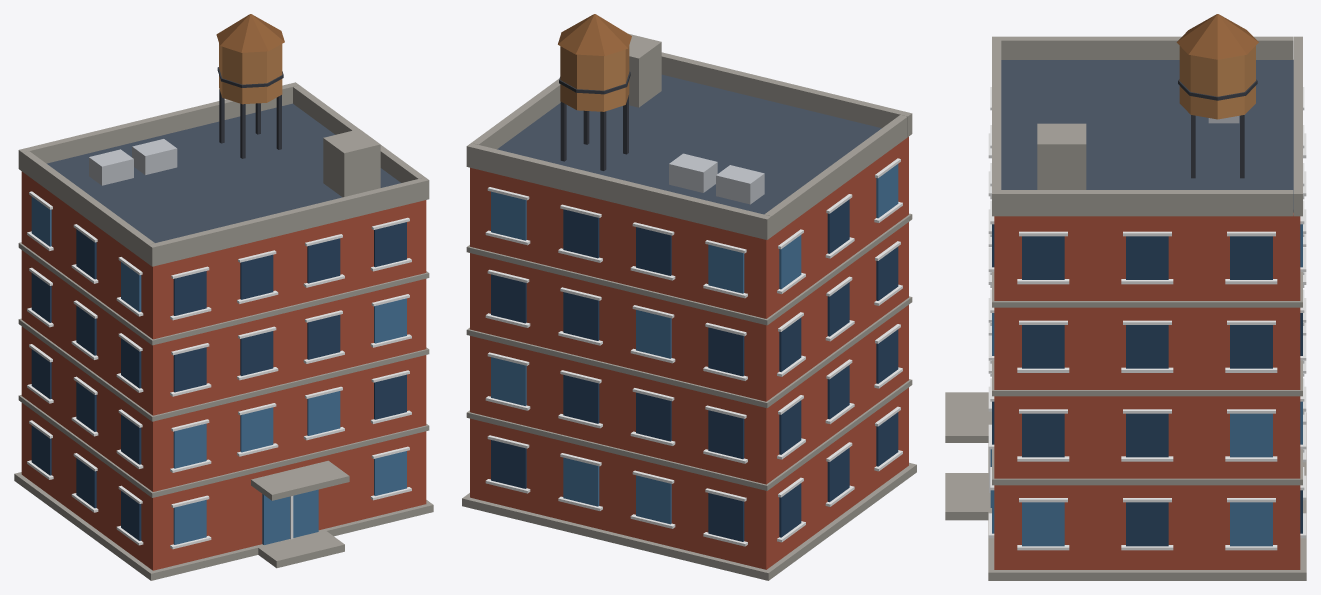
The model's file is Apartment_Block.glb.
The picture shows the model from 3 angles, left to right: view 1: azimuth 30°, elevation 25°; view 2: azimuth 150°, elevation 25°; view 3: azimuth 270°, elevation 25°; orthographic projection. The views are drawn at different scales.
Parts seen in each view (by area): view 1: Apartment_Block_Mesh; view 2: Apartment_Block_Mesh; view 3: Apartment_Block_Mesh.
Part boxes in pixels (x1,y1,x2,y2): Apartment_Block_Mesh: (14,14,433,580); Apartment_Block_Mesh: (462,14,916,580); Apartment_Block_Mesh: (945,14,1306,580).
Bounding box in the file's own units: 12.4 × 18.7 × 11.8.
1 material, 1 textured.
